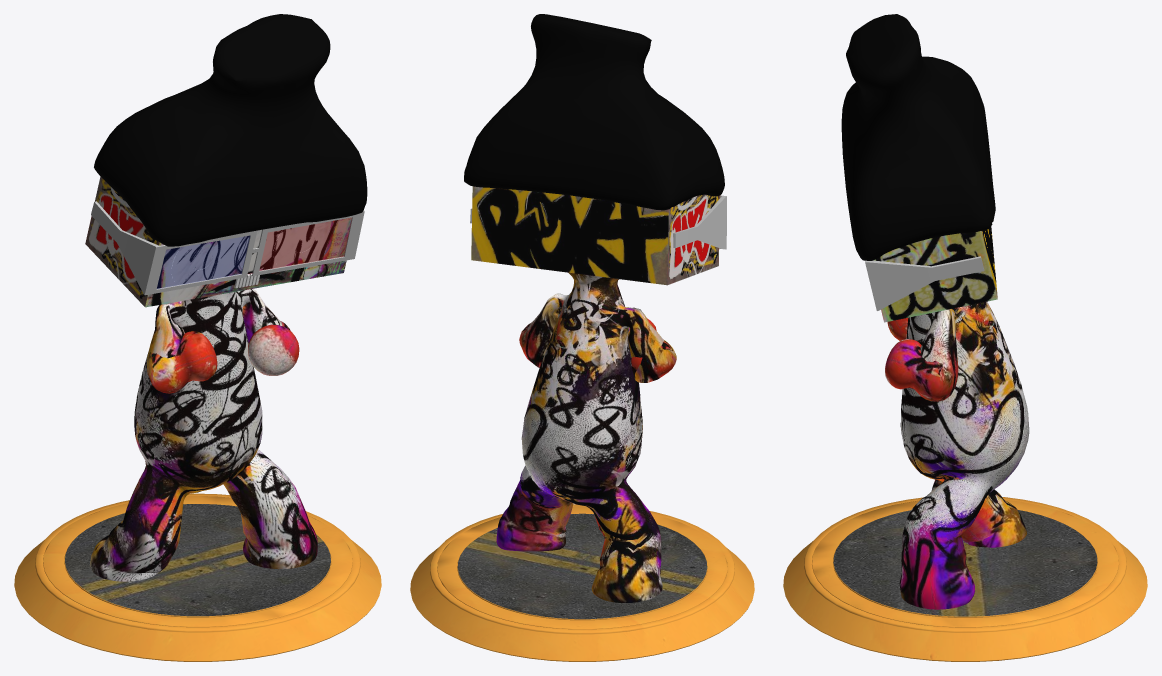
3 views of the same model, side by side, from view 1: azimuth 30°, elevation 25°; view 2: azimuth 150°, elevation 25°; view 3: azimuth 270°, elevation 25° (orthographic). The views are drawn at different scales.
Size of the model in its own units: 1.45 by 2.5 by 1.45.
Materials: 9 (4 with a texture image).
